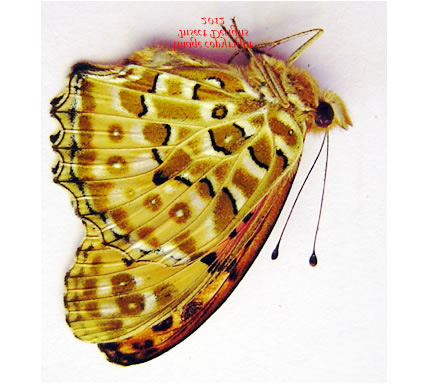Argyreus hyperbius: (44, 13, 354, 368)
butterfly: (46, 15, 356, 370)
